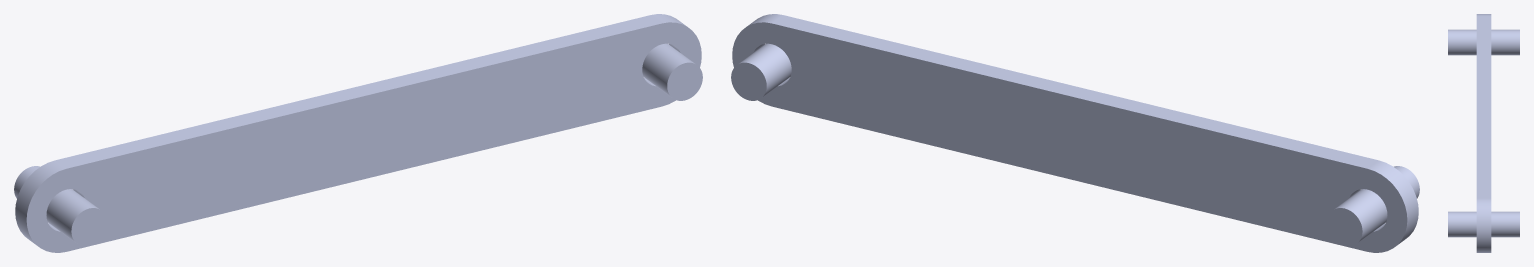
3 views of the same model, side by side, from view 1: azimuth 30°, elevation 25°; view 2: azimuth 150°, elevation 25°; view 3: azimuth 270°, elevation 25° (orthographic). The views are drawn at different scales.
Parts seen in each view (by area): view 1: SOLID (×3); view 2: SOLID (×3); view 3: SOLID (×3).
Part boxes in pixels (bbox=[...]): SOLID (×3): bbox=[14, 14, 702, 252]; SOLID (×3): bbox=[731, 14, 1419, 252]; SOLID (×3): bbox=[1448, 14, 1519, 252].
Size of the model in its own units: 0.17 by 0.02 by 0.025.
